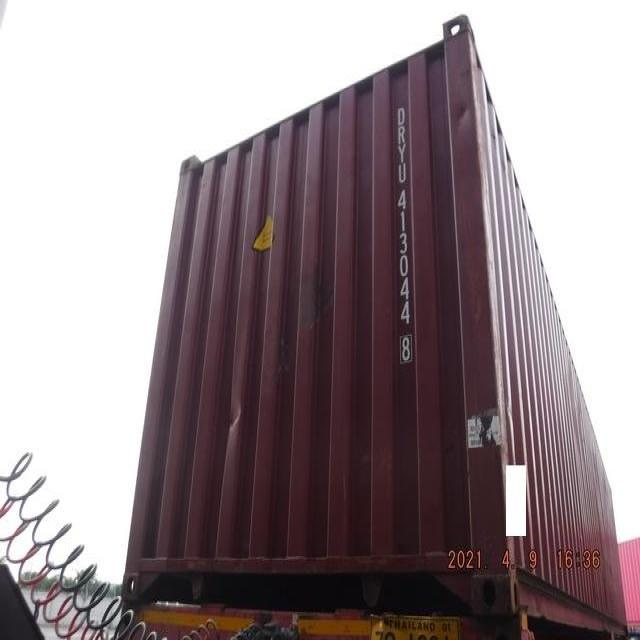dent: (214, 401, 263, 437)
